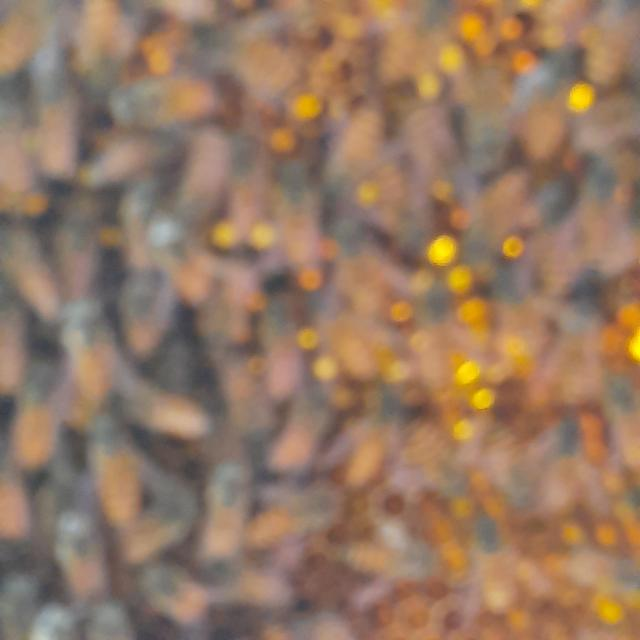honeybee: (52, 296, 116, 426), (92, 419, 161, 532), (517, 36, 590, 142), (537, 408, 605, 520), (122, 374, 221, 450), (1, 227, 77, 324), (332, 88, 396, 203), (181, 122, 232, 239), (204, 454, 253, 560), (551, 278, 595, 396), (408, 104, 456, 207), (262, 293, 305, 402), (65, 0, 114, 90), (0, 293, 29, 416), (600, 379, 640, 454), (35, 601, 86, 640), (88, 601, 131, 640)
